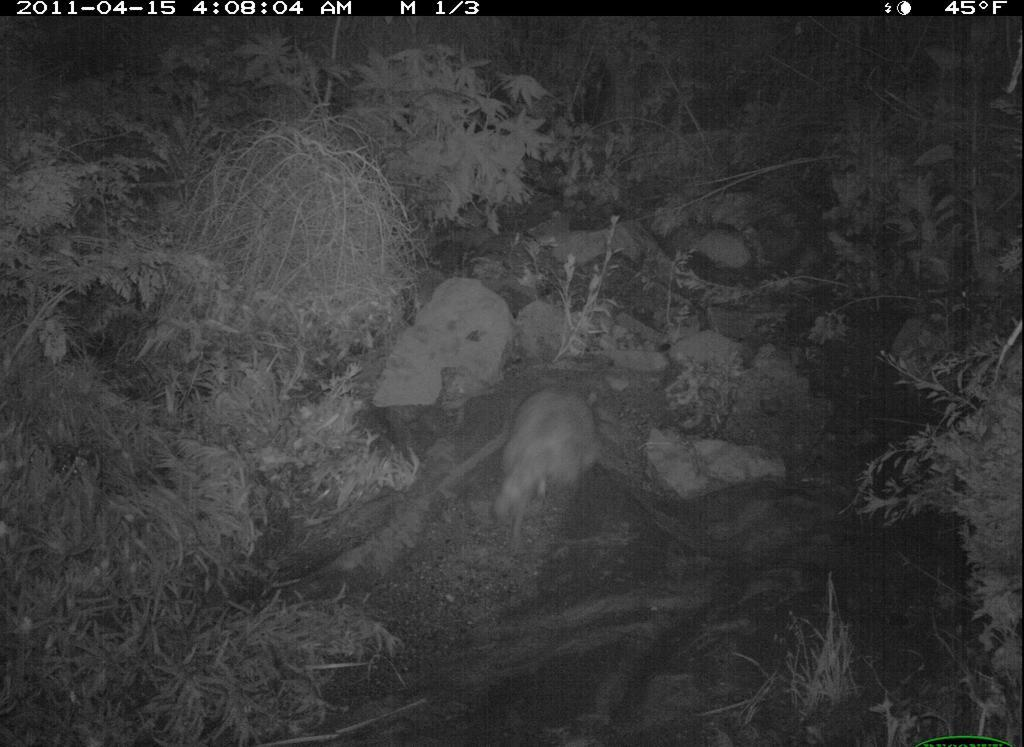raccoon: (475, 376, 607, 561)
